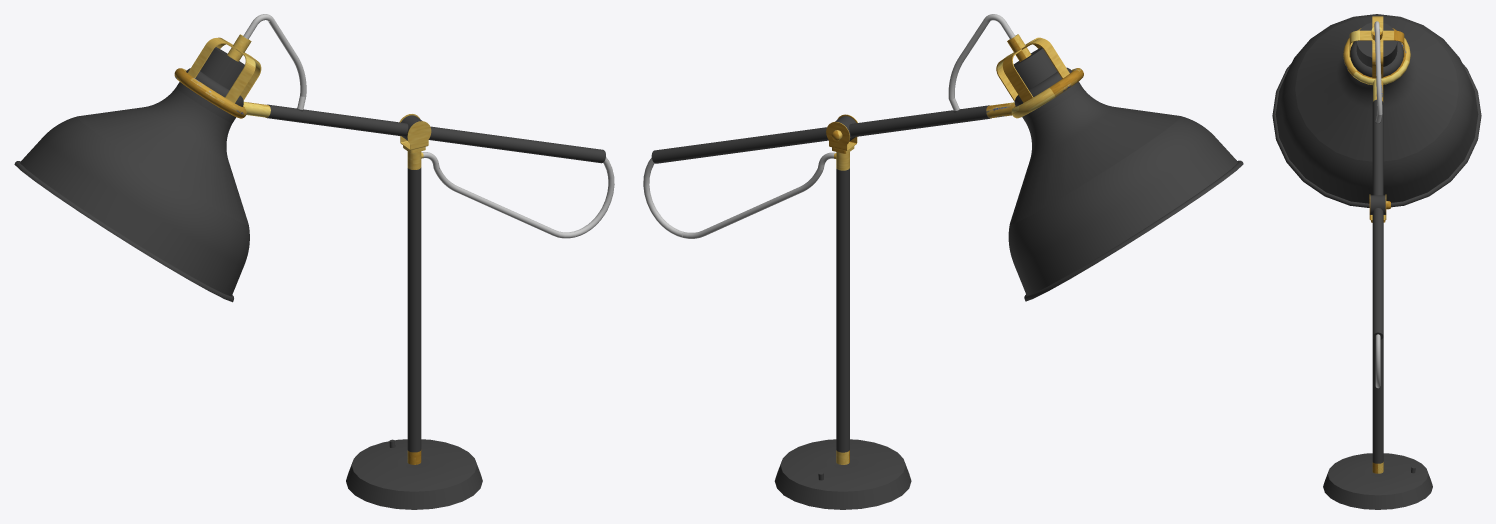
Rendered from lamp+3.fbx.
3 renders of one model, left to right at view 1: azimuth 30°, elevation 25°; view 2: azimuth 150°, elevation 25°; view 3: azimuth 270°, elevation 25°, orthographic. The views are drawn at different scales.
Visible parts, largest first — view 1: Group6, Group2, Group8, Group10, Union1, Group13, Group4, Group9, Union; view 2: Group6, Group2, Group8, Group10, Union1, Group13, Group4, Group9; view 3: Group6, Group2, Group8, Union1, Group10, Group4, Group9, Group13, Group3.
Boxes of the visible parts, <box> form: Group6: <box>14,68,249,302</box>; Group2: <box>346,439,482,509</box>; Group8: <box>266,104,605,163</box>; Group10: <box>407,167,421,452</box>; Union1: <box>174,37,261,118</box>; Group13: <box>422,152,614,238</box>; Group4: <box>200,34,303,111</box>; Group9: <box>243,14,306,109</box>; Union: <box>399,114,431,150</box>; Group6: <box>1008,67,1243,301</box>; Group2: <box>774,439,911,509</box>; Group8: <box>651,105,991,163</box>; Group10: <box>836,168,849,452</box>; Union1: <box>996,37,1083,118</box>; Group13: <box>643,152,834,238</box>; Group4: <box>953,34,1057,112</box>; Group9: <box>948,14,1014,111</box>; Group6: <box>1272,14,1481,207</box>; Group2: <box>1323,453,1432,509</box>; Group8: <box>1372,99,1383,339</box>; Union1: <box>1343,16,1410,84</box>; Group10: <box>1372,337,1383,463</box>; Group4: <box>1356,22,1397,123</box>; Group9: <box>1374,21,1382,122</box>; Group13: <box>1375,334,1380,388</box>; Group3: <box>1370,195,1385,214</box>.
Size of the model in its own units: 19.22 by 15.97 by 7.48.
